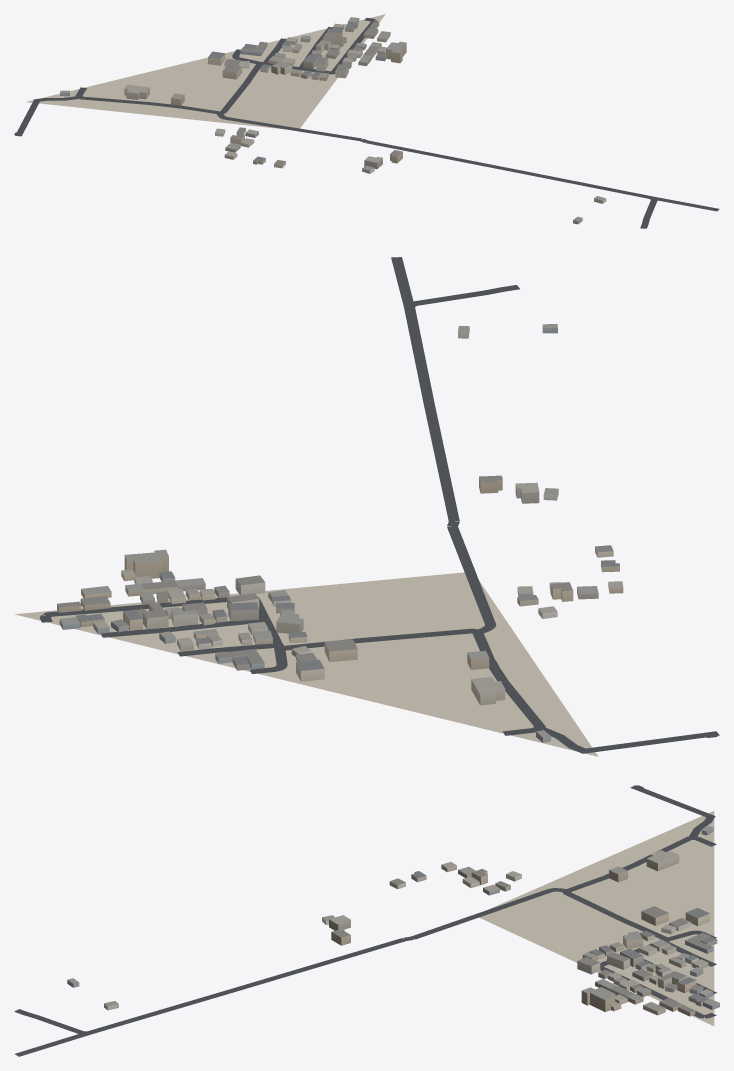
3 views of the same model, one above another, from view 1: azimuth 30°, elevation 25°; view 2: azimuth 150°, elevation 25°; view 3: azimuth 270°, elevation 25° (orthographic). The views are drawn at different scales.
Parts seen in each view (by area): view 1: landuse, roads, buildings_walls, buildings_roofs; view 2: landuse, roads, buildings_walls, buildings_roofs; view 3: landuse, buildings_walls, roads, buildings_roofs.
Part boxes in pixels (<box>): landuse: <box>26,14,385,129</box>; roads: <box>14,17,719,228</box>; buildings_walls: <box>60,19,606,224</box>; buildings_roofs: <box>60,17,605,220</box>; landuse: <box>15,572,598,756</box>; roads: <box>39,257,719,753</box>; buildings_walls: <box>57,327,623,742</box>; buildings_roofs: <box>57,324,623,737</box>; landuse: <box>479,811,714,1025</box>; buildings_walls: <box>67,827,719,1016</box>; roads: <box>14,785,716,1056</box>; buildings_roofs: <box>67,826,719,1012</box>.
Bounding box in the file's own units: 461 × 9.6 × 506.
